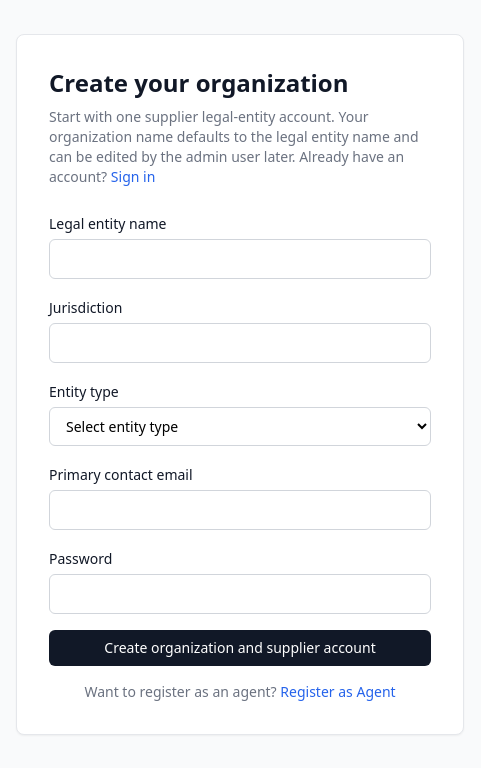
it: SupplierRegisterPage › shows email format error for an invalid email
In the field labelled "Primary contact email": (240, 510) x1=49 y1=490 x2=431 y2=530, type "not-an-email"
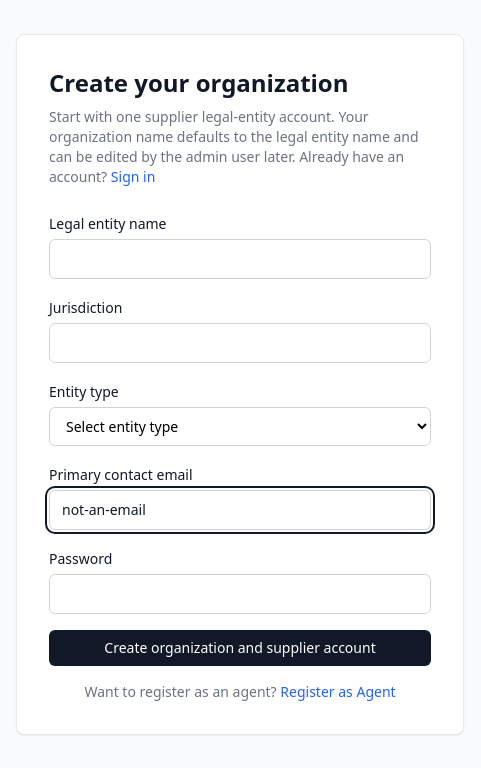
Click the button "Create organization and supplier account": (240, 648) x1=49 y1=630 x2=431 y2=666
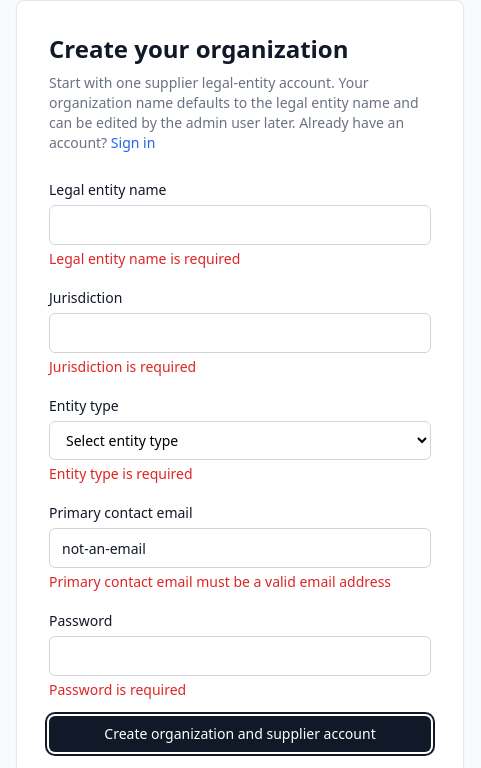
Now the text "Primary contact email must be a valid email address" is shown, box x1=49 y1=572 x2=431 y2=592
